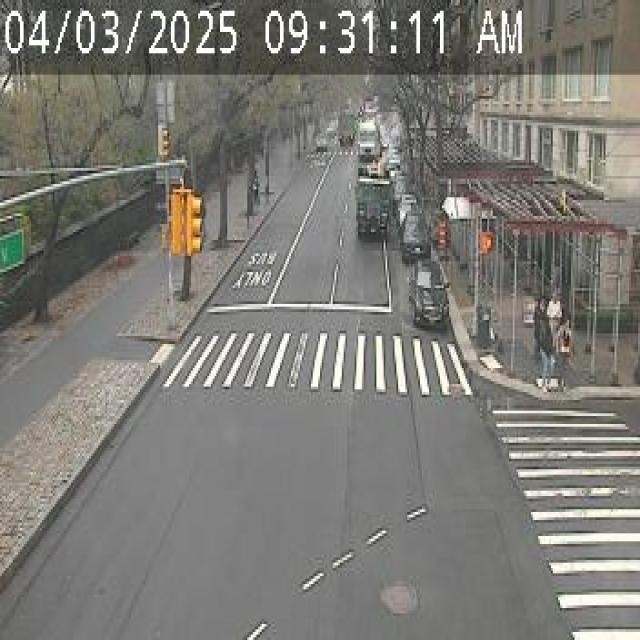open parking: (380, 215, 453, 338)
